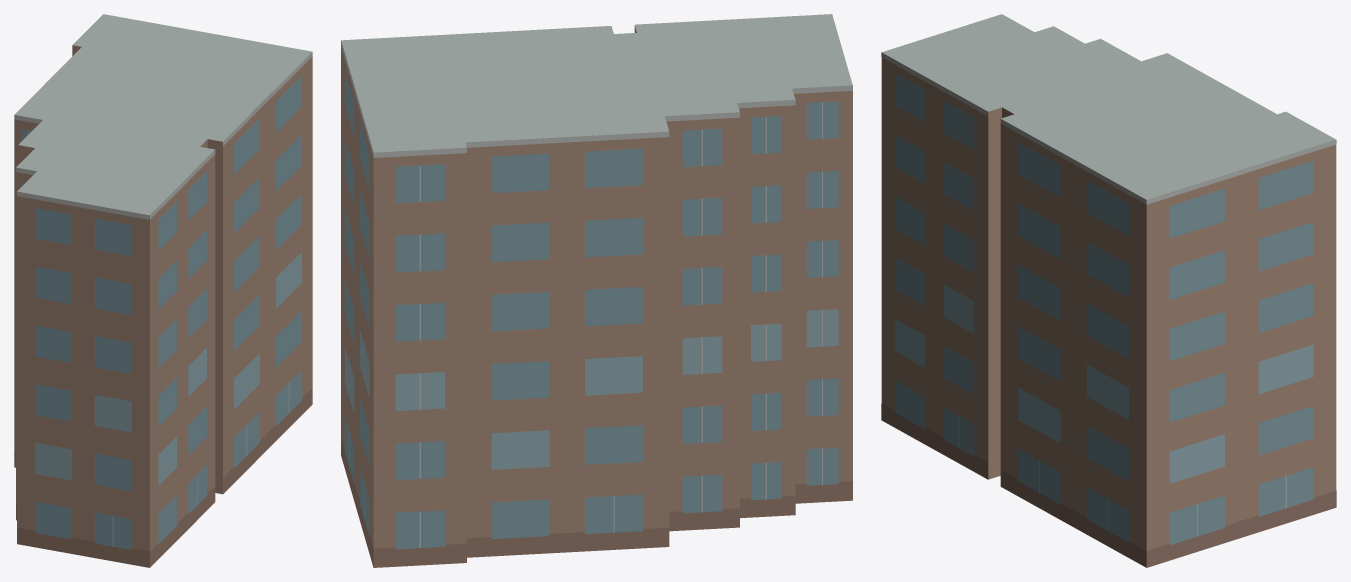
The model's file is survey-upis-32976139.glb.
3 renders of one model, left to right at view 1: azimuth 30°, elevation 25°; view 2: azimuth 150°, elevation 25°; view 3: azimuth 270°, elevation 25°, orthographic. The views are drawn at different scales.
Parts seen in each view (by area): view 1: survey-upis-32976139.tmp; view 2: survey-upis-32976139.tmp; view 3: survey-upis-32976139.tmp.
Boxes of the visible parts, box(x1,y1,x2,y2) form: survey-upis-32976139.tmp: box(14, 14, 312, 567); survey-upis-32976139.tmp: box(341, 14, 852, 567); survey-upis-32976139.tmp: box(881, 14, 1336, 567).
Bounding box in the file's own units: 20.33 × 18.75 × 21.02.
